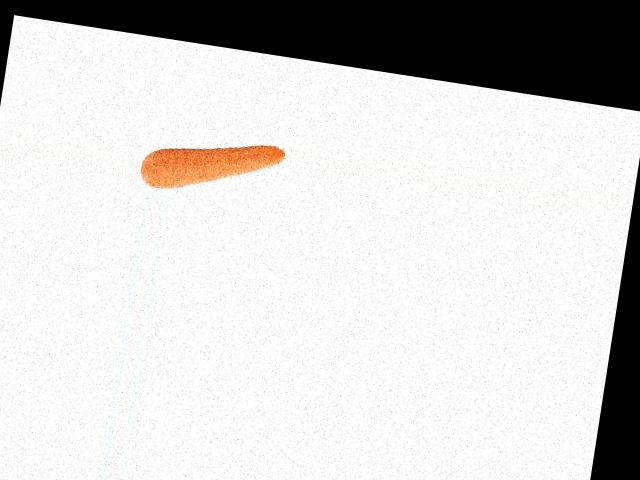carrot: (139, 126, 286, 205)
